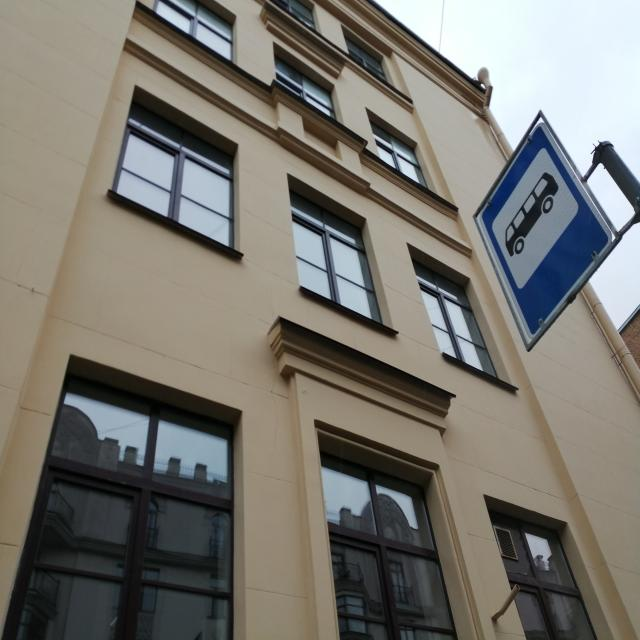road sign: (480, 121, 615, 342)
